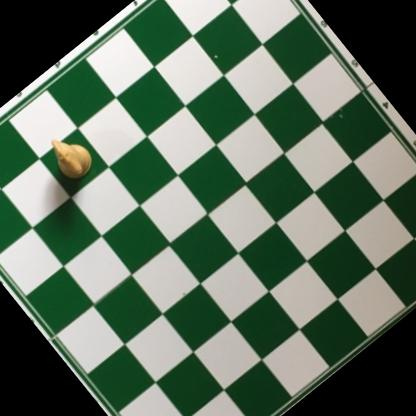white-knight: (41, 127, 101, 189)
